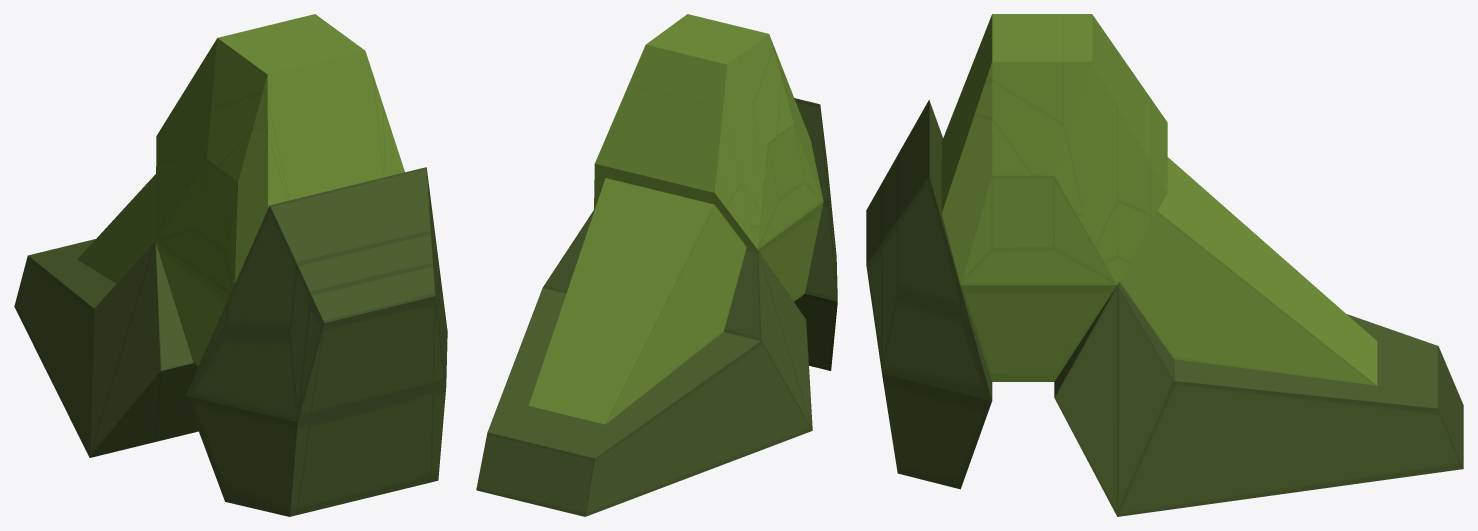
The model's file is RShoes.fbx.
3 renders of one model, left to right at view 1: azimuth 30°, elevation 25°; view 2: azimuth 150°, elevation 25°; view 3: azimuth 270°, elevation 25°, orthographic. The views are drawn at different scales.
Parts seen in each view (by area): view 1: Shape_IndexedFaceSet.049, Shape_IndexedFaceSet.047, Shape_IndexedFaceSet.048; view 2: Shape_IndexedFaceSet.049, Shape_IndexedFaceSet.048, Shape_IndexedFaceSet.047; view 3: Shape_IndexedFaceSet.049, Shape_IndexedFaceSet.048, Shape_IndexedFaceSet.047.
Part boxes in pixels (x1,y1,x2,y2): Shape_IndexedFaceSet.049: (14,167,447,516); Shape_IndexedFaceSet.047: (155,14,404,283); Shape_IndexedFaceSet.048: (77,159,237,366); Shape_IndexedFaceSet.049: (476,98,837,516); Shape_IndexedFaceSet.048: (528,124,823,424); Shape_IndexedFaceSet.047: (594,14,823,249); Shape_IndexedFaceSet.049: (866,100,1463,516); Shape_IndexedFaceSet.048: (960,157,1377,385); Shape_IndexedFaceSet.047: (941,14,1167,284).
Size of the model in its own units: 0.1521 by 0.1779 by 0.2411.
